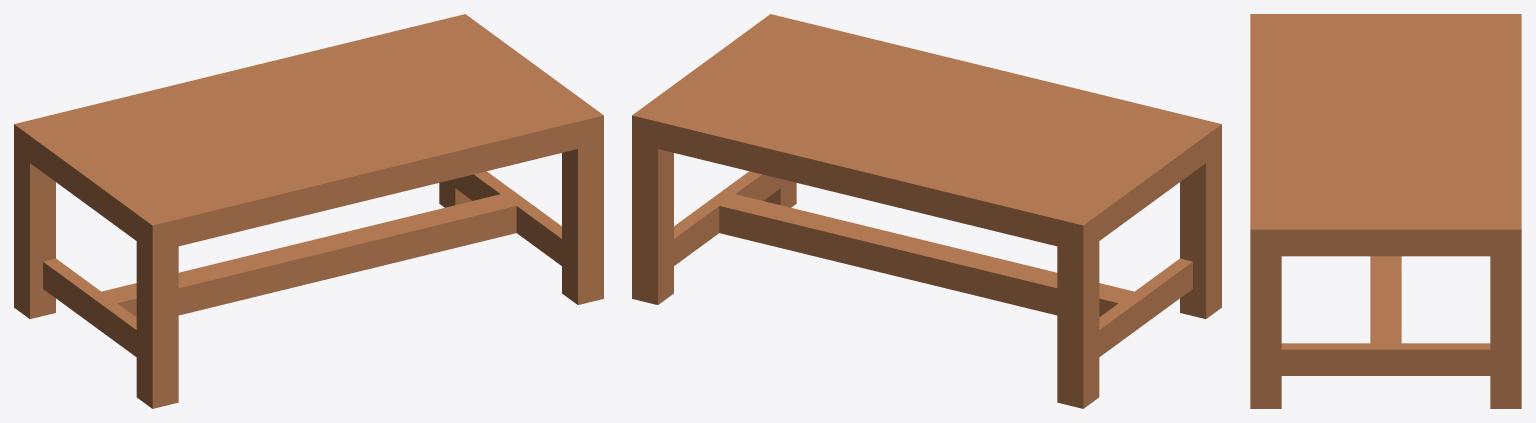
File: furn_table.glb
The picture shows the model from 3 angles, left to right: view 1: azimuth 30°, elevation 25°; view 2: azimuth 150°, elevation 25°; view 3: azimuth 270°, elevation 25°; orthographic projection. The views are drawn at different scales.
Visible parts, largest first — view 1: table(Clone); view 2: table(Clone); view 3: table(Clone).
Part boxes in pixels (x1=…): table(Clone): x1=14, y1=14, x2=603, y2=408; table(Clone): x1=632, y1=14, x2=1221, y2=408; table(Clone): x1=1250, y1=14, x2=1521, y2=408.
Size of the model in its own units: 0.8415 by 0.3267 by 0.4474.
